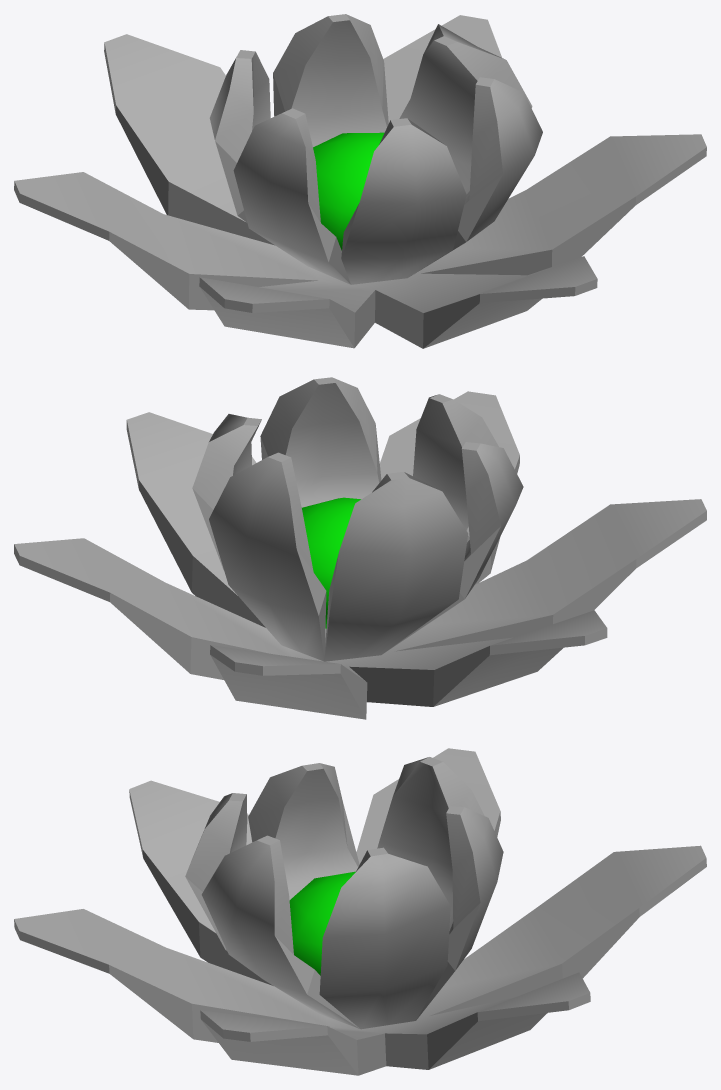
Rendered from OutsideRoofFlower.fbx.
The picture shows the model from 3 angles, top to bottom: view 1: azimuth 30°, elevation 25°; view 2: azimuth 150°, elevation 25°; view 3: azimuth 270°, elevation 25°; orthographic projection. The views are drawn at different scales.
Visible parts, largest first — view 1: pCylinder54; view 2: pCylinder54; view 3: pCylinder54.
Part boxes in pixels (x1,y1,x2,y2): pCylinder54: (14, 14, 706, 348); pCylinder54: (14, 377, 706, 719); pCylinder54: (14, 748, 706, 1075).
Size of the model in its own units: 250 by 101 by 265.
